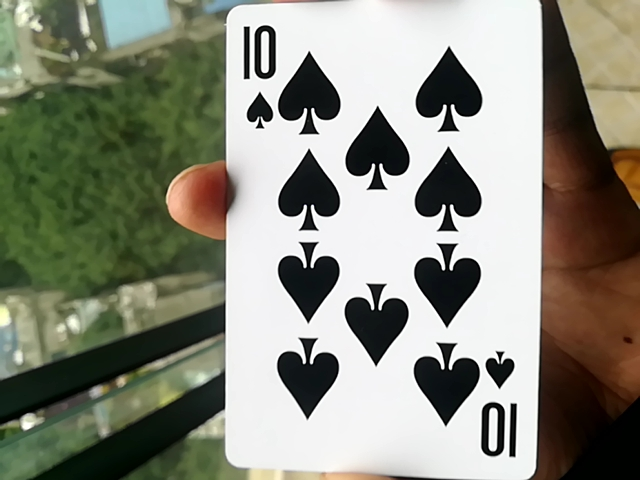ht 10: (211, 13, 540, 474)
